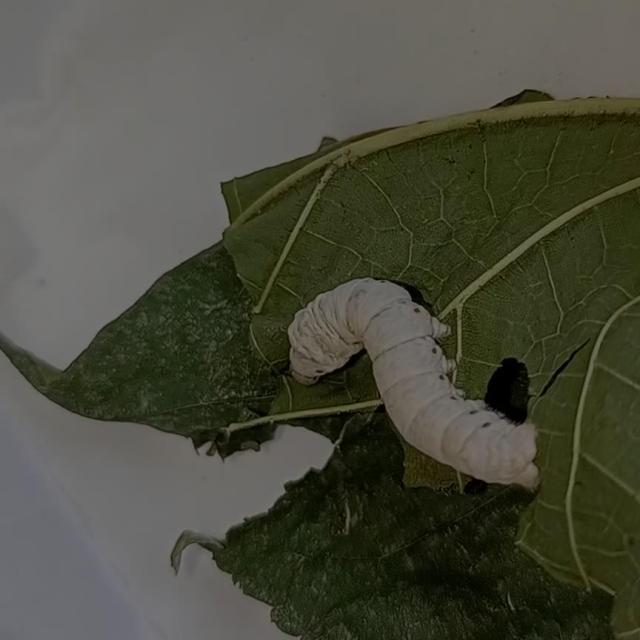Healthy: (245, 197, 561, 507)
